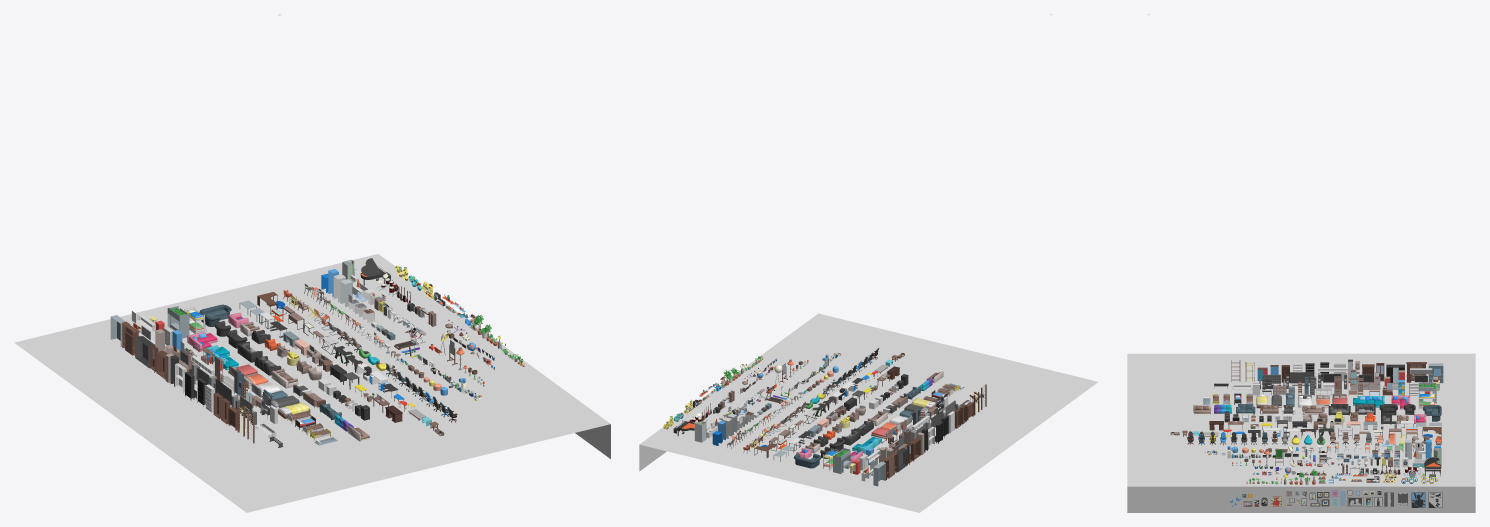
The model's file is wupin.fbx.
The picture shows the model from 3 angles, left to right: view 1: azimuth 30°, elevation 25°; view 2: azimuth 150°, elevation 25°; view 3: azimuth 270°, elevation 25°; orthographic projection. The views are drawn at different scales.
Parts seen in each view (by area): view 1: Plane; view 2: Plane; view 3: Plane, low_poly_interior.156, low_poly_interior.085.
Part boxes in pixels (box(x1,y1,x2,y2)): Plane: box(14, 254, 610, 512); Plane: box(639, 313, 1097, 512); Plane: box(1127, 353, 1475, 512); low_poly_interior.156: box(1318, 367, 1347, 389); low_poly_interior.085: box(1350, 369, 1380, 389).
Size of the model in its own units: 3183 by 4260 by 3514.
Materials: 2 (1 with a texture image).
